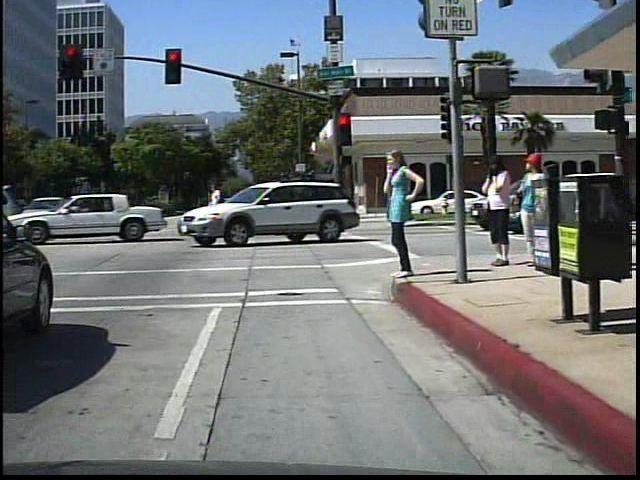person: (379, 146, 424, 286), (473, 148, 514, 267), (511, 146, 552, 256)
